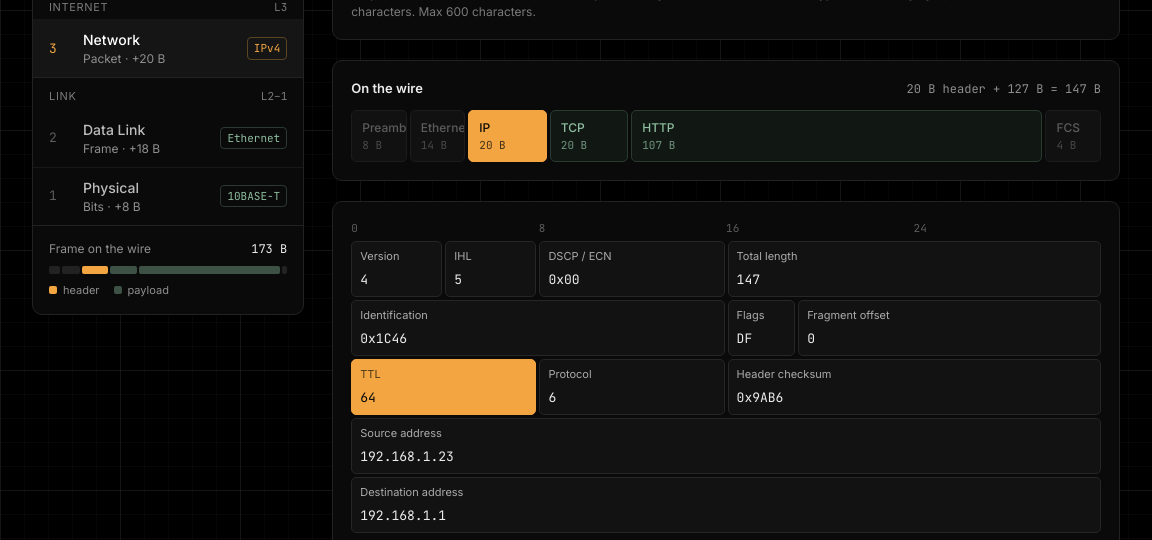
Test case: App › switches the line code, changing the waveform legend and label
(page scrolled)
What coordinates should you click on to do the following:
click the button "1 Physical Bits · +8 B 10BASE-T"
I would click on:
 (111, 187)
Its box is [33,166,303,224].
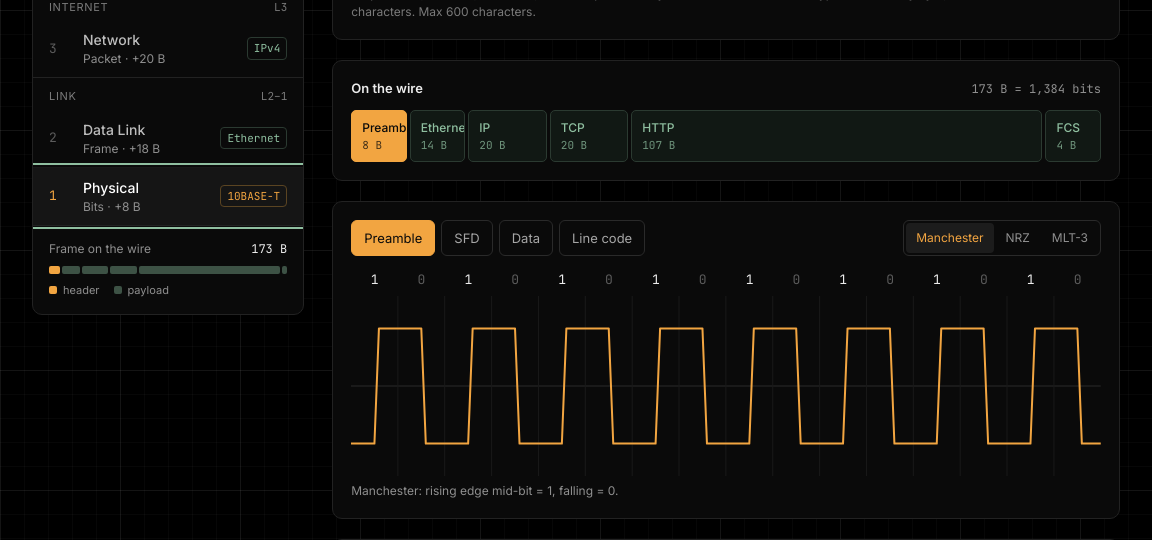
Now the text "Manchester: rising edge mid-bit = 1, falling = 0." is shown, box [351,483,618,498]
Now the picture named "Manchester signal for bits 1010101010101010" is shown, box [351,296,1101,476]
What coordinates should you click on to do the following:
click the button "NRZ"
I would click on:
 (1018, 238)
Its box is [996,223,1040,253].
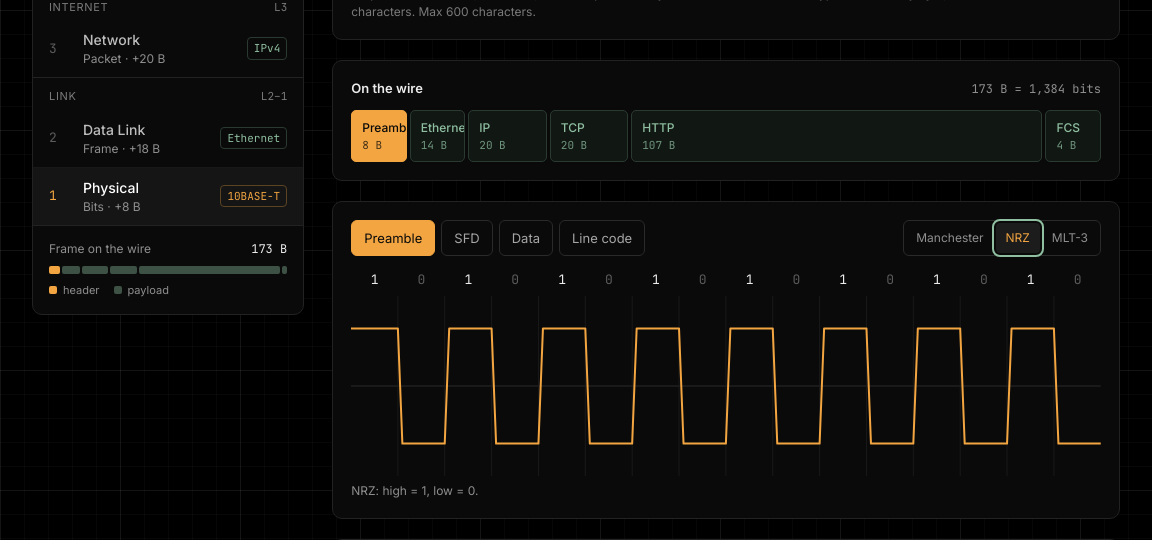
Now the picture named "NRZ signal" is shown, box [351,296,1101,476]
Now the text "NRZ: high = 1, low = 0." is shown, box [351,483,478,498]
What coordinates should you click on to do the following:
click the button "MLT-3"
I would click on:
 (1070, 238)
Its box is [1042,223,1098,253].
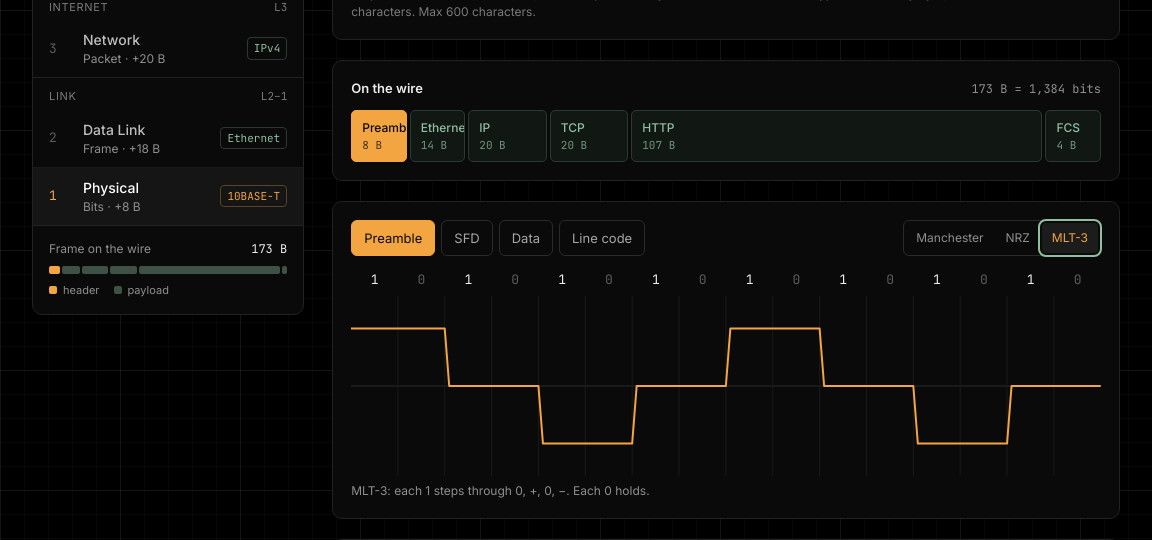
Now the text "MLT-3: each 1 steps through 0, +, 0, −. Each 0 holds." is shown, box [351,483,650,498]
